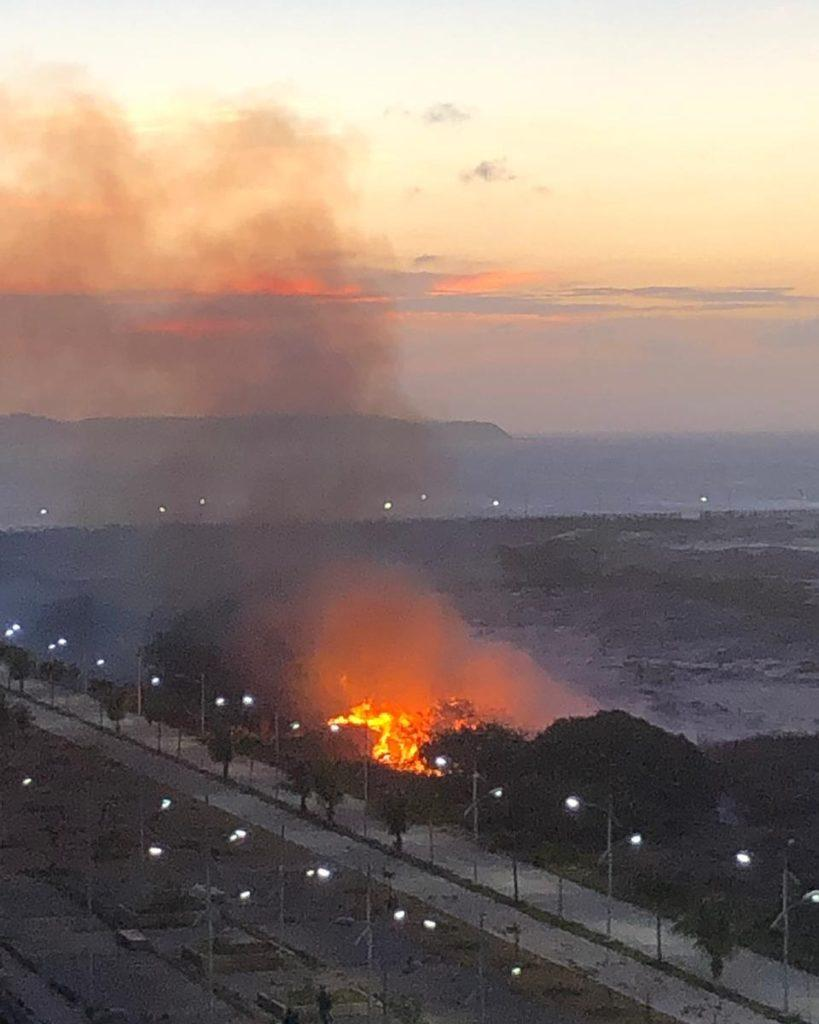fire: (358, 705, 438, 768)
smoke: (328, 585, 422, 682)
